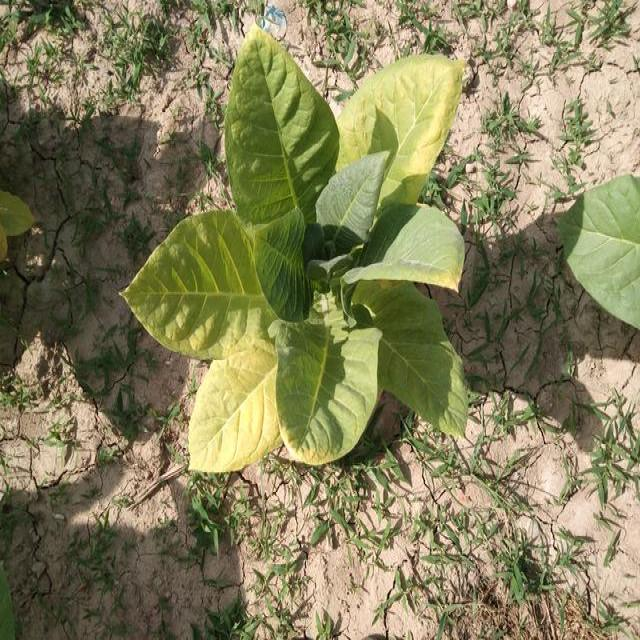crop: (126, 32, 479, 455)
